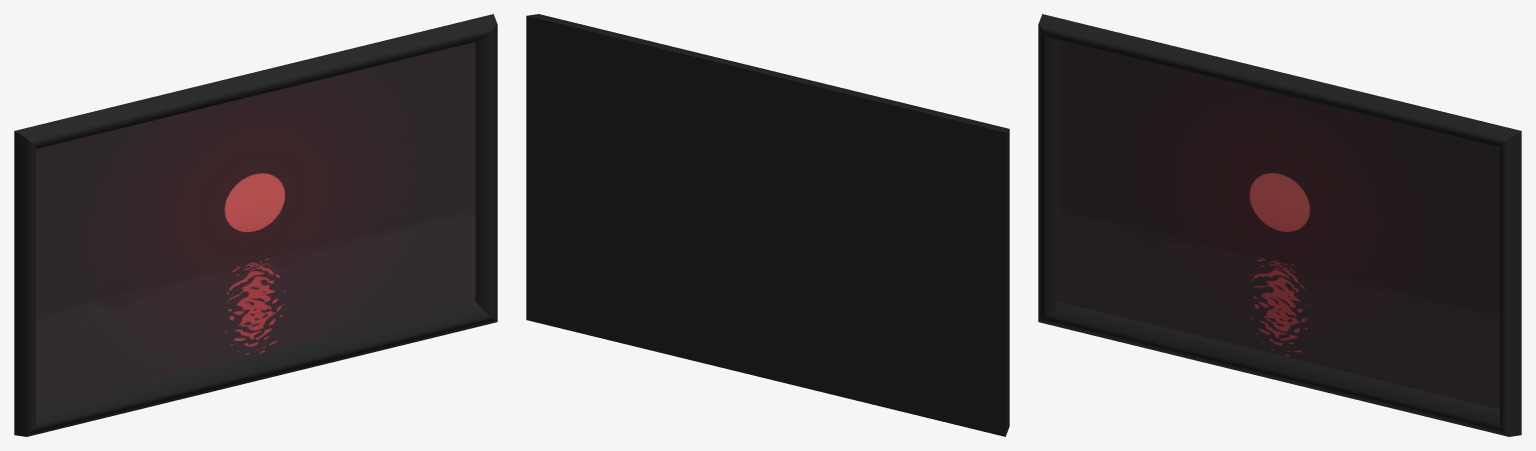
Rendered from picture_019.fbx.
3 renders of one model, left to right at view 1: azimuth 30°, elevation 25°; view 2: azimuth 150°, elevation 25°; view 3: azimuth 330°, elevation 25°, orthographic.
Parts seen in each view (by area): view 1: picture_019; view 2: picture_019; view 3: picture_019.
Part boxes in pixels (x1,y1,x2,y2): picture_019: (14,14,497,436); picture_019: (526,14,1009,436); picture_019: (1038,14,1521,436).
Bounding box in the file's own units: 176 × 5.17 × 107.
